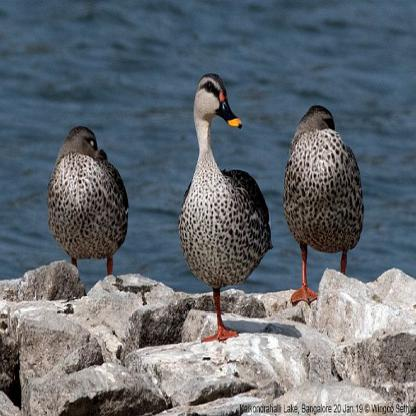Burung: (178, 72, 271, 341)
